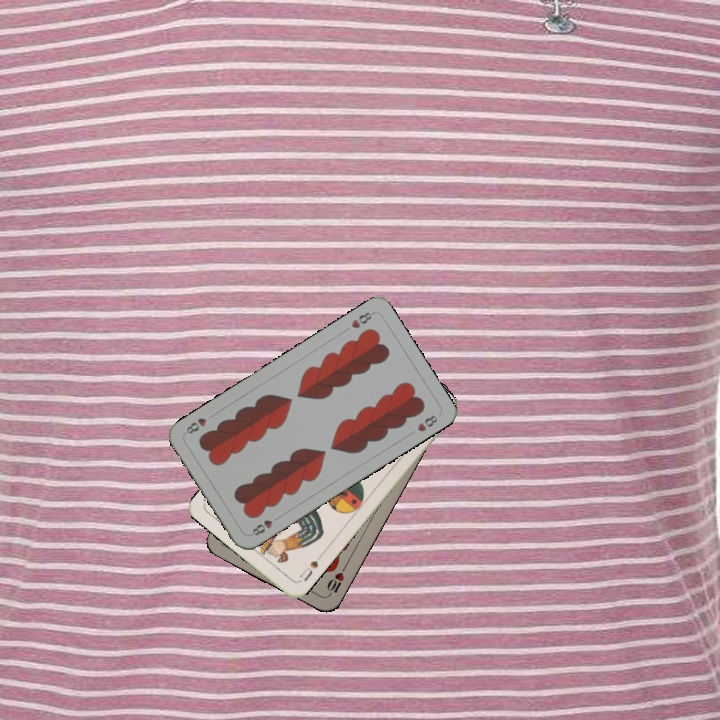H10: (323, 562, 349, 600)
H8: (247, 512, 283, 538), (347, 308, 377, 331)
SU: (294, 551, 325, 585)
